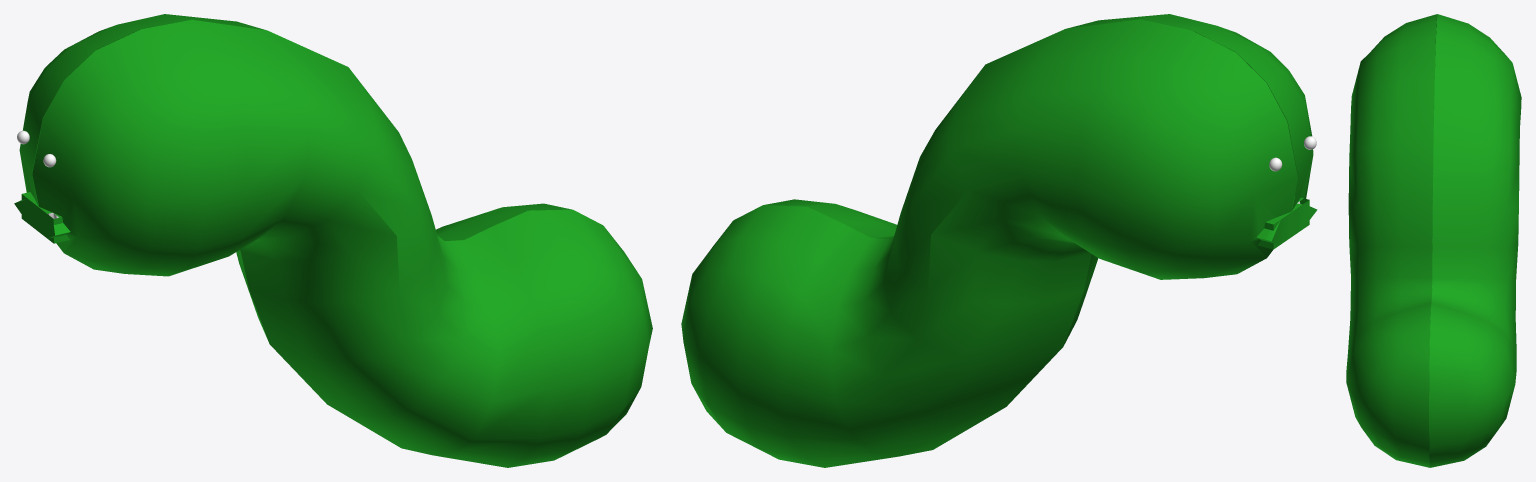
Rendered from Enemy2.obj.
The picture shows the model from 3 angles, left to right: view 1: azimuth 30°, elevation 25°; view 2: azimuth 150°, elevation 25°; view 3: azimuth 270°, elevation 25°; orthographic projection. The views are drawn at different scales.
Parts seen in each view (by area): view 1: Bottom.1, Mouth; view 2: Bottom.1, Mouth; view 3: Bottom.1.
Part boxes in pixels (x1,y1,x2,y2): Bottom.1: (19, 14, 652, 467); Mouth: (14, 192, 70, 243); Bottom.1: (681, 14, 1313, 467); Mouth: (1256, 196, 1317, 249); Bottom.1: (1346, 14, 1521, 467).
Size of the model in its own units: 51.31 by 41.94 by 20.61.
